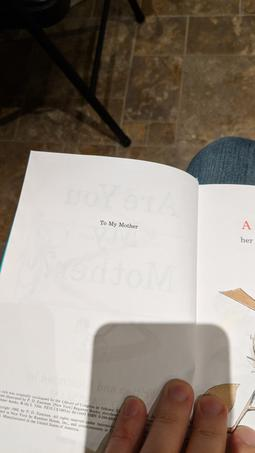text block: (91, 214, 142, 232)
